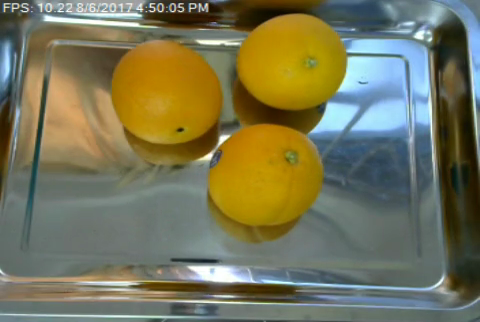Orange: (205, 121, 322, 226), (109, 39, 221, 144), (235, 11, 346, 108)
